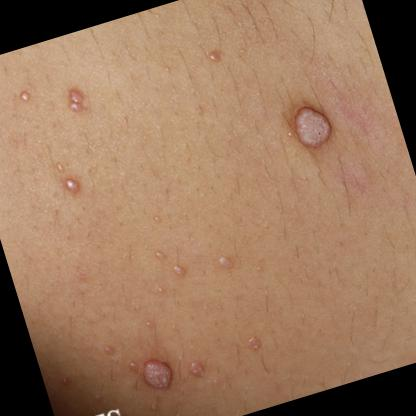Warts: (270, 83, 352, 168), (126, 330, 186, 404), (178, 348, 216, 390)
